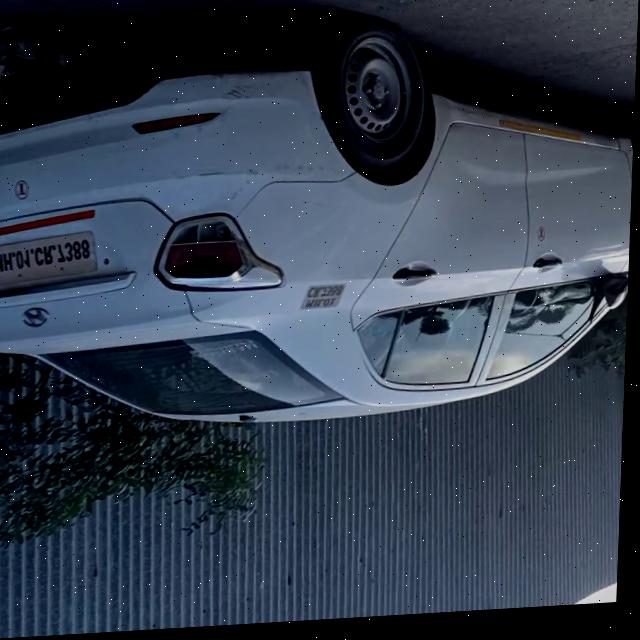plate: (0, 230, 102, 293)
